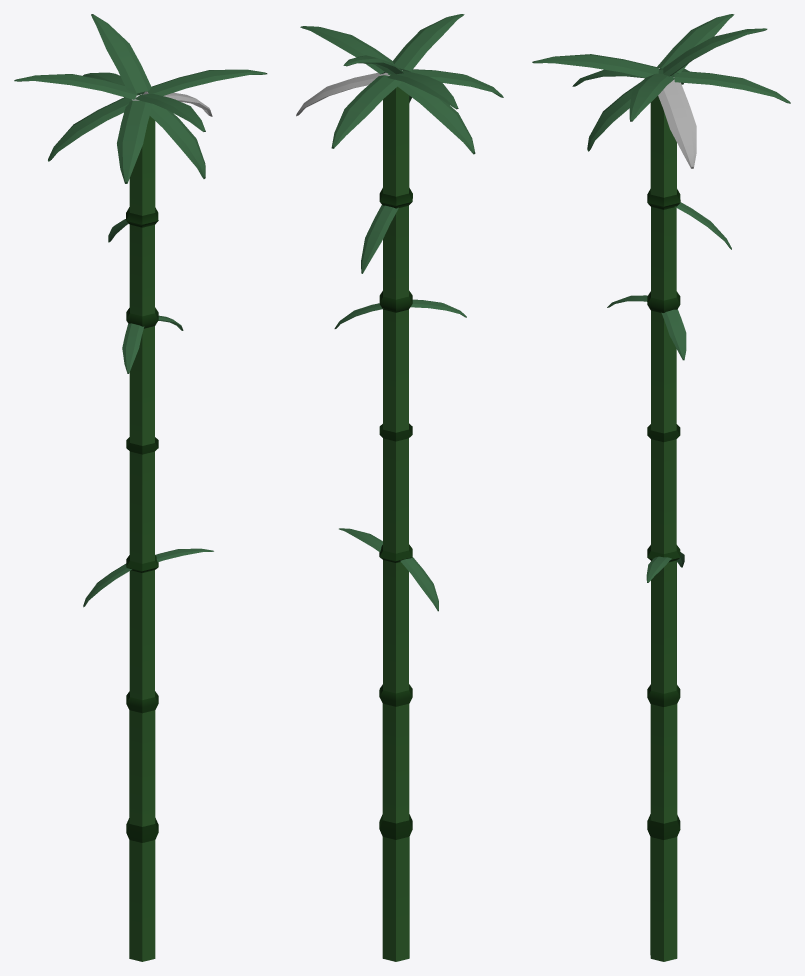
The model's file is bambu_pequeno.fbx.
3 renders of one model, left to right at view 1: azimuth 30°, elevation 25°; view 2: azimuth 150°, elevation 25°; view 3: azimuth 270°, elevation 25°, orthographic. The views are drawn at different scales.
Visible parts, largest first — view 1: bambu_pequeno; view 2: bambu_pequeno; view 3: bambu_pequeno.
Part boxes in pixels (<box>): bambu_pequeno: <box>14,14,267,961</box>; bambu_pequeno: <box>296,14,503,961</box>; bambu_pequeno: <box>532,14,790,961</box>.
Bounding box in the file's own units: 5.96 × 25.31 × 6.4.
